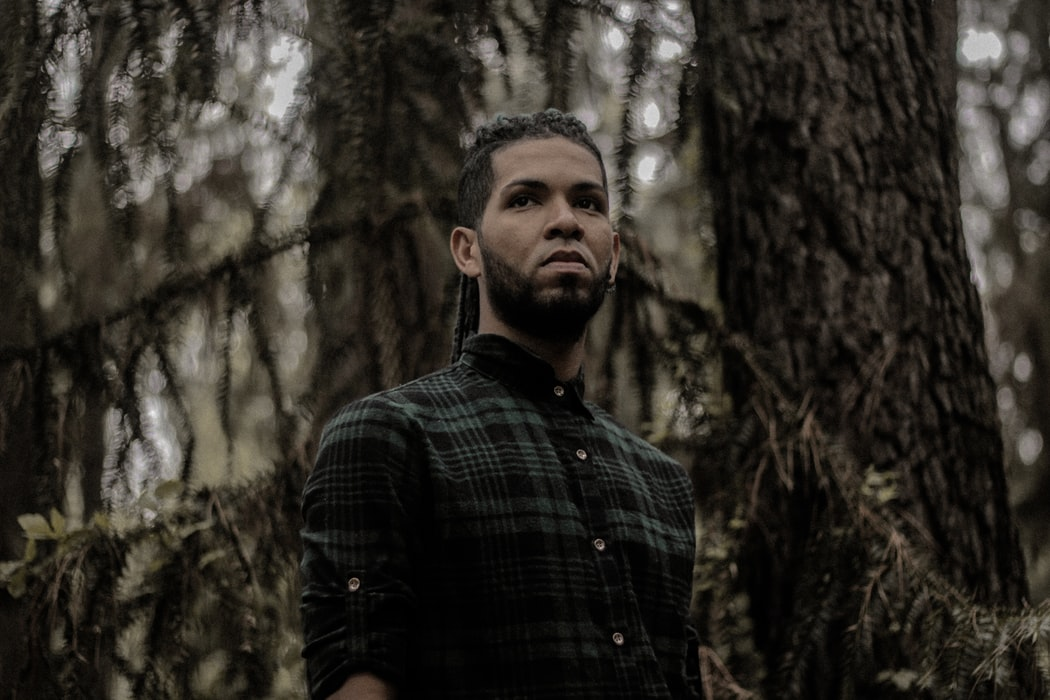beard: (469, 238, 617, 345)
